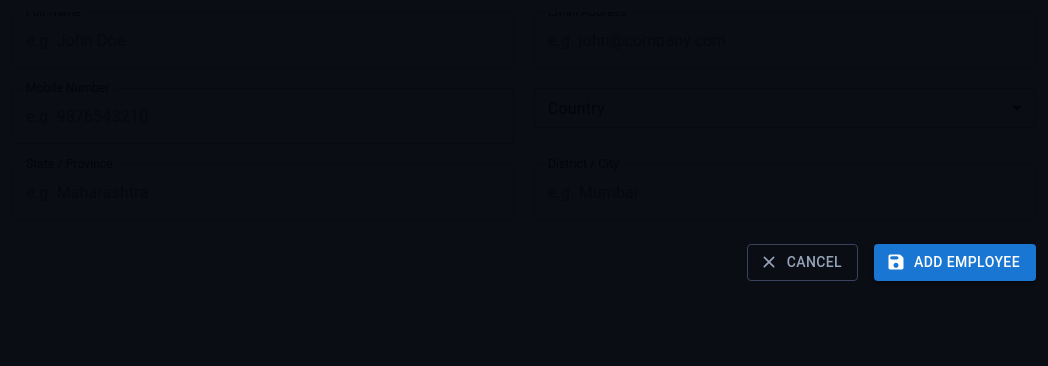
Test: EmployeeForm › shows error for empty name on Submit
The width and height of the screenshot is (1048, 366).
Click the button "Add Employee": (955, 262) [874,244,1036,280]
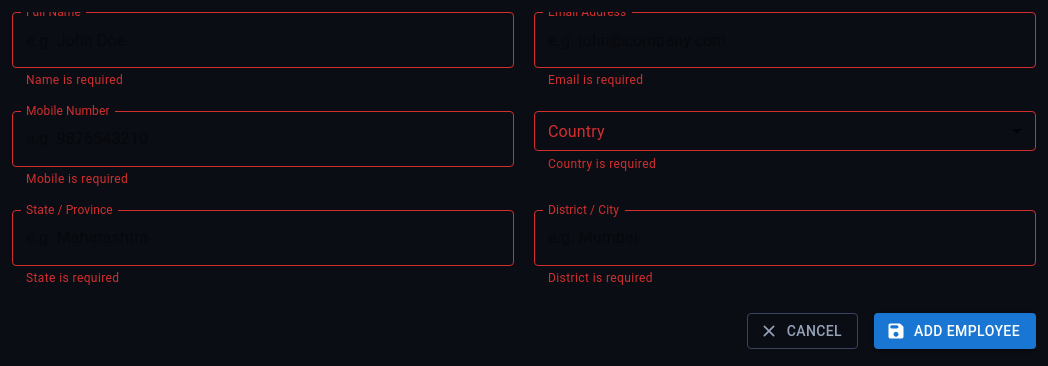
Check: the text "Name is required" is shown, box [26,73,123,87]
